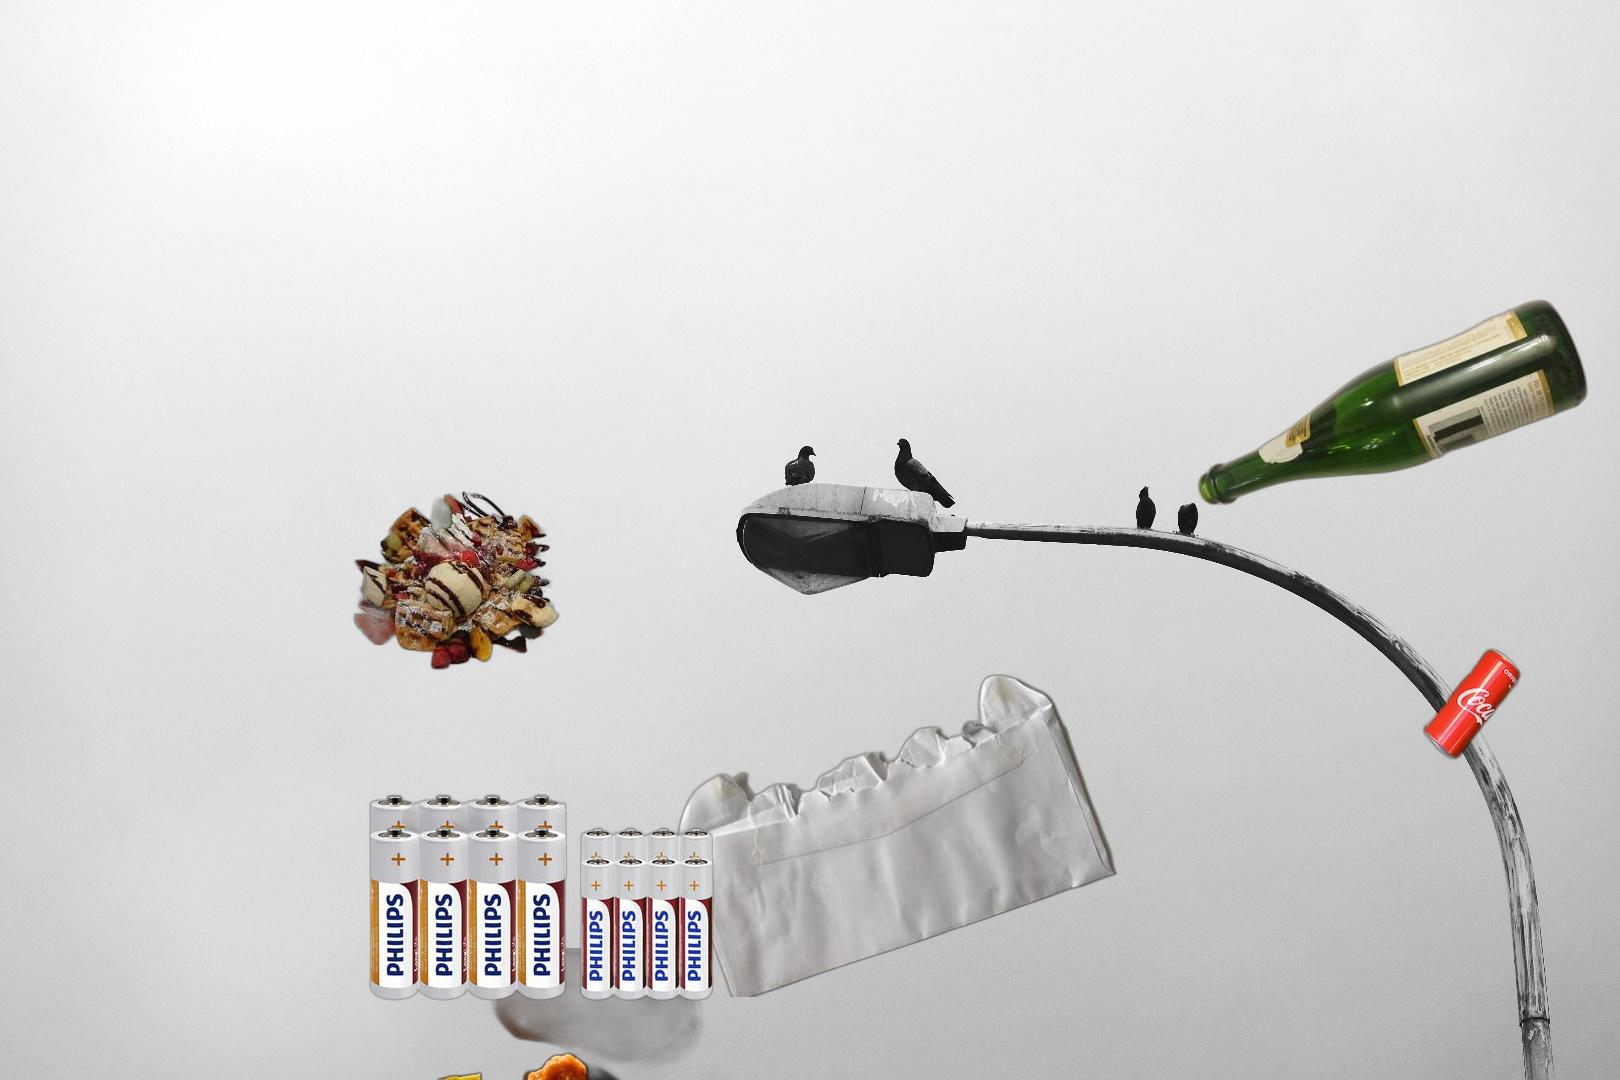battery: (366, 793, 716, 1004)
biological: (365, 947, 810, 1080), (350, 485, 562, 673)
glass: (1195, 297, 1592, 506)
metal-cans: (1114, 206, 1524, 890)
paper: (675, 673, 1120, 997)
